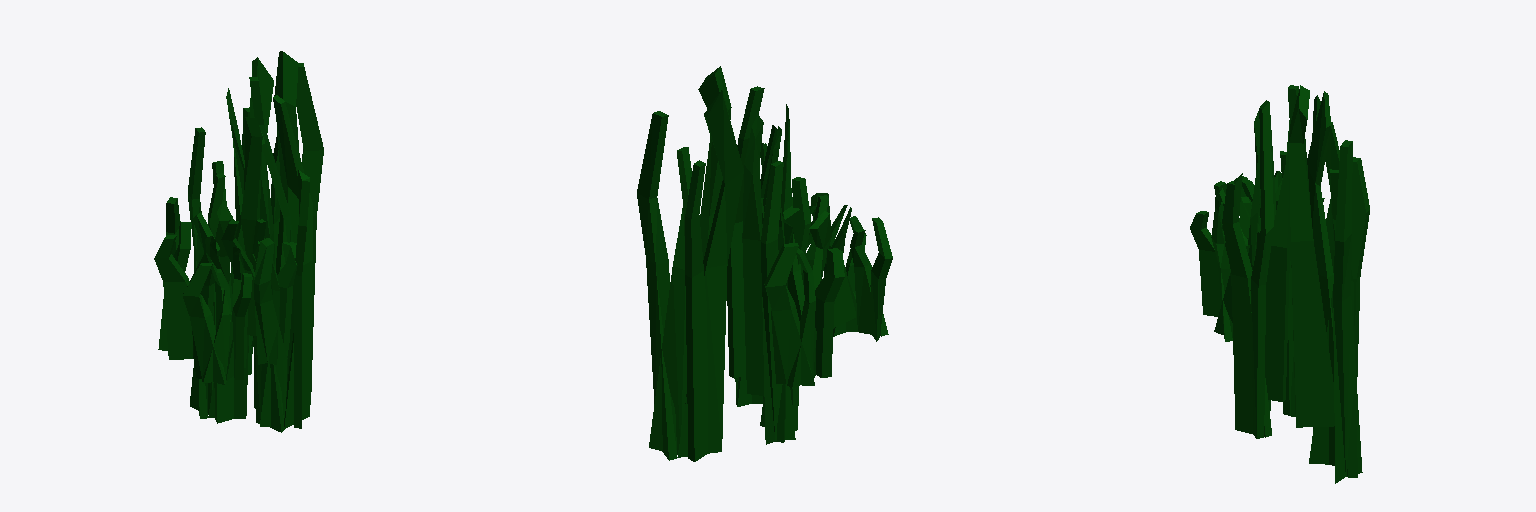
Rendered from arbol5.obj.
The picture shows the model from 3 angles: view 1: azimuth 30°, elevation 25°; view 2: azimuth 150°, elevation 25°; view 3: azimuth 270°, elevation 25°; orthographic projection.
Parts seen in each view (by area): view 1: Cube.051, Cube.021; view 2: Cube.051, Cube.021; view 3: Cube.051, Cube.021.
Part boxes in pixels (x1,y1,x2,y2): Cube.051: (188,51,323,432); Cube.021: (154,197,297,384); Cube.051: (637,66,810,461); Cube.021: (764,193,892,388); Cube.051: (1222,85,1369,483); Cube.021: (1190,171,1324,341).
Size of the model in its own units: 2.22 by 4.03 by 1.75.